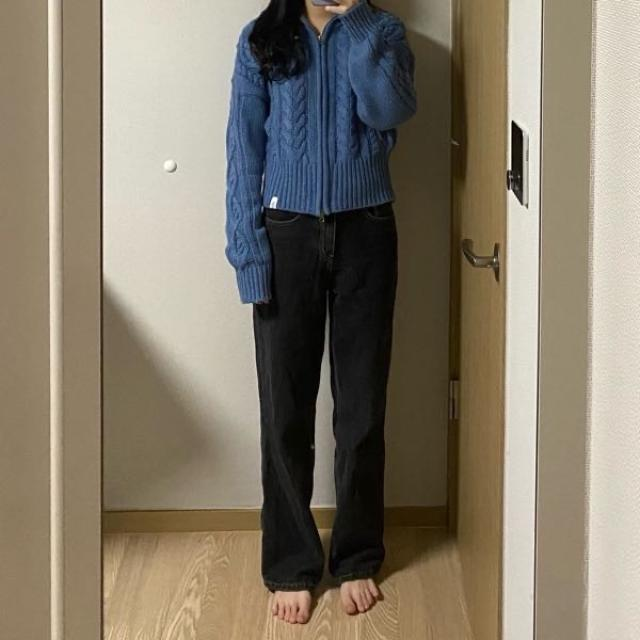cardigan: (225, 3, 418, 306)
denimpants: (252, 204, 399, 593)
